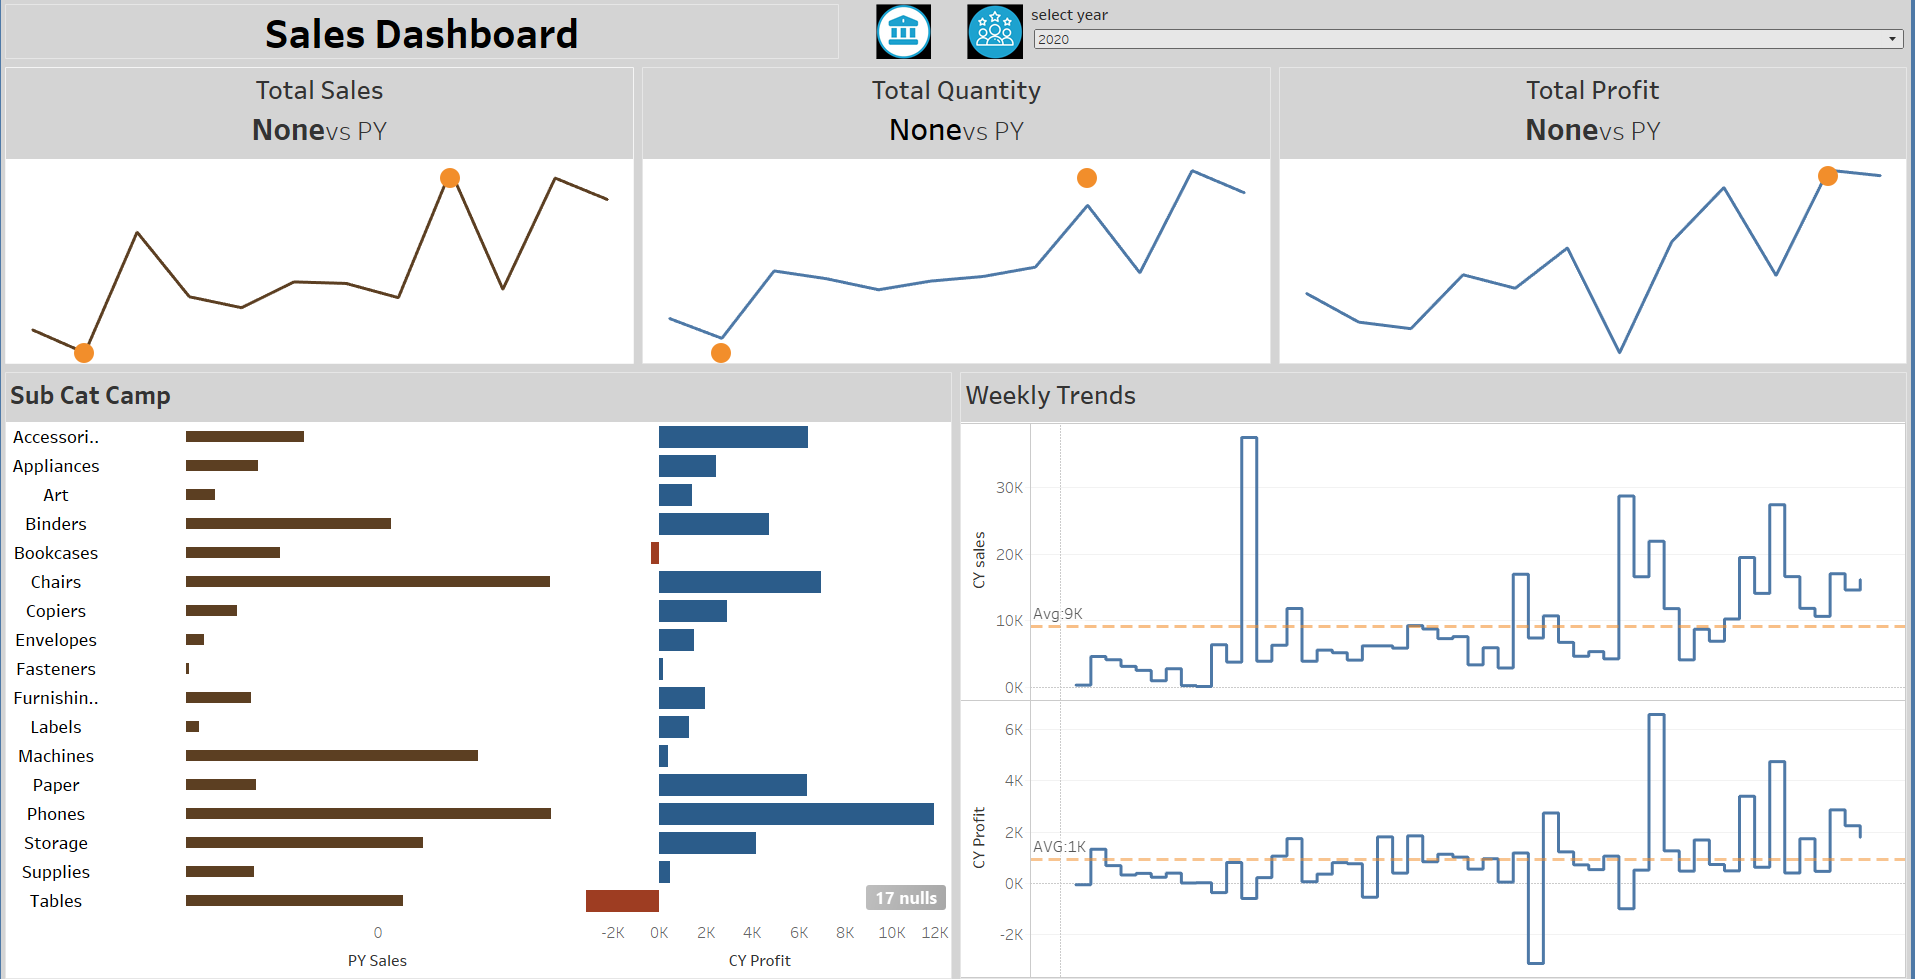

What the dashboard file says about the page in this screenshot:
{"tool":"tableau","page":{"name":"Dashboard 1","canvas":[1000,1000],"units":"permille","ordinal":0},"visuals":[{"type":"text","box":[3,6.2,508.2,78.7]},{"type":"dashboard-object","box":[511.2,6.2,72.4,78.7]},{"type":"dashboard-object","box":[583.6,6.2,38.6,78.7]},{"type":"parameter","param":"[Parameters].[Parameter 1]","box":[622.2,6.2,374.8,78.7]},{"type":"worksheet","title":"KPI Sales","mark":"Automatic","rows":["Calculation_323977718304661517"],"cols":["Order Date"],"box":[3,84.9,331.3,380.8]},{"type":"worksheet","title":"KPI Quantity","mark":"Automatic","rows":["Calculation_323977718304661517"],"cols":["Order Date"],"box":[334.3,84.9,331.3,380.8]},{"type":"worksheet","title":"KPI Profit ","mark":"Automatic","rows":["MIn/Max sales (copy)_478507481528025089"],"cols":["Order Date"],"box":[665.7,84.9,331.3,380.8]},{"type":"worksheet","title":"Sub category comp","mark":"Bar","rows":["Sub-Category","Calculation_478507481535262731"],"cols":["Calculation_323977718294622211","Calculation_323977718294204417","Calculation_323977718299521030"],"box":[3,465.7,497.3,528.1]},{"type":"worksheet","title":"Weekly Trends","mark":"Automatic","rows":["Calculation_323977718294204417","Calculation_323977718299521030"],"cols":["Order Date"],"box":[500.3,465.7,496.7,528.1]}]}

Visuals, with their boxes on the dashboard's canvas, which has no fixed pixel size, in thousandths of its width and height (x1, y1, x2, y2). These are canvas units, not pixel positions in the 1915x979 screenshot, which may show the page scaled, cropped or inside an application window:
text: 3,6,511,85
dashboard-object: 511,6,584,85
dashboard-object: 584,6,622,85
parameter: 622,6,997,85
"KPI Sales" worksheet: 3,85,334,466
"KPI Quantity" worksheet: 334,85,666,466
"KPI Profit " worksheet: 666,85,997,466
"Sub category comp" worksheet (Bar marks): 3,466,500,994
"Weekly Trends" worksheet: 500,466,997,994
